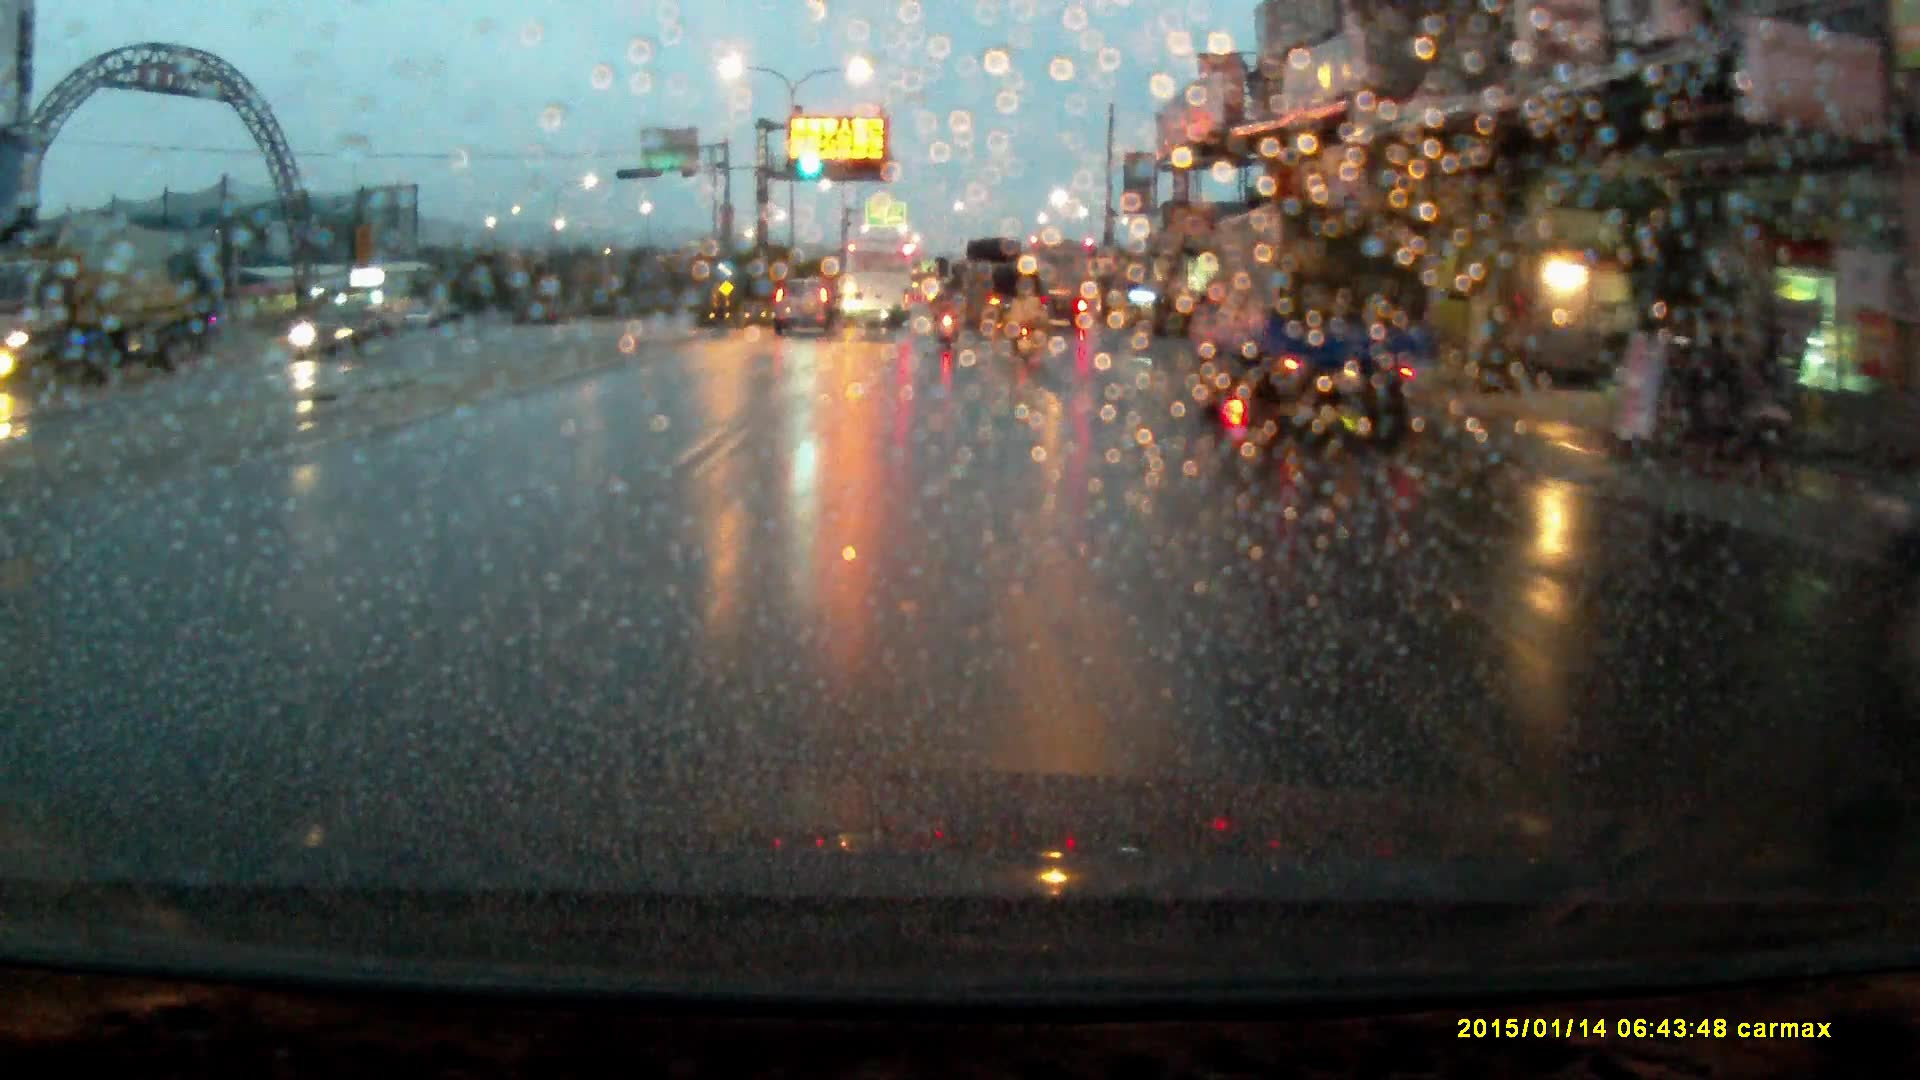rider: (1004, 276, 1046, 363), (932, 279, 961, 346)
vehicle: (1186, 201, 1442, 439), (1, 253, 201, 384), (841, 240, 913, 333), (966, 240, 1041, 329), (293, 300, 391, 367), (1030, 243, 1095, 328), (774, 275, 840, 333)
